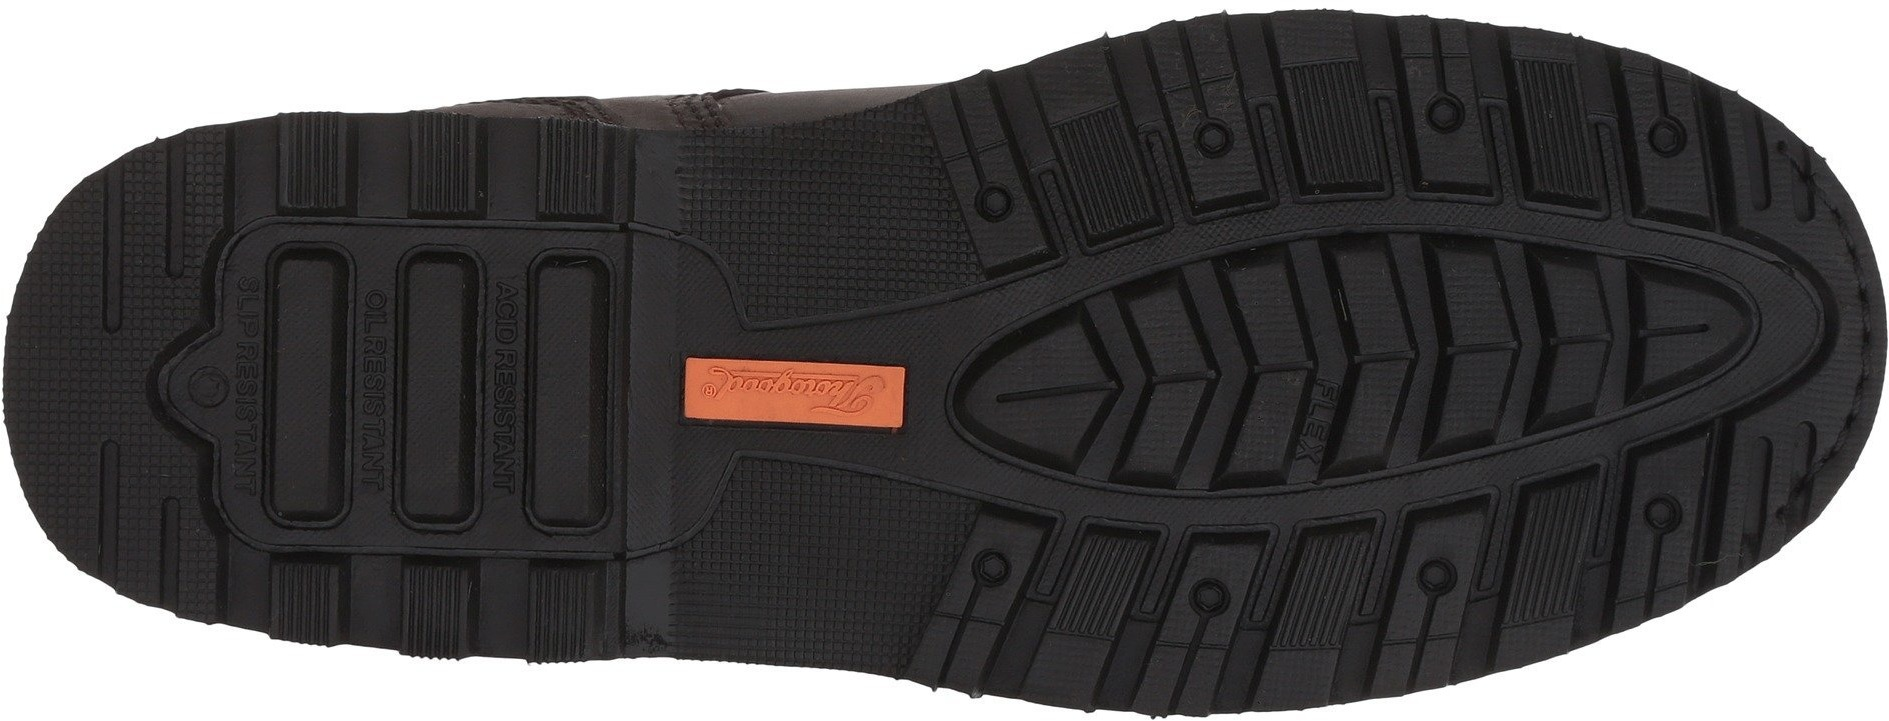chevron: (1320, 248, 1519, 458), (1104, 297, 1296, 483)
circle: (957, 538, 1020, 600), (1183, 106, 1242, 168), (1634, 490, 1694, 549), (1408, 555, 1467, 610), (1422, 89, 1475, 150), (1183, 571, 1238, 625), (972, 184, 1024, 236)
other: (732, 140, 907, 313), (738, 505, 904, 658), (14, 338, 116, 446), (1296, 543, 1369, 619)
quad: (270, 231, 551, 526), (673, 341, 867, 491)
text: (333, 291, 429, 395), (186, 354, 270, 441), (710, 351, 795, 429), (807, 367, 885, 436)
